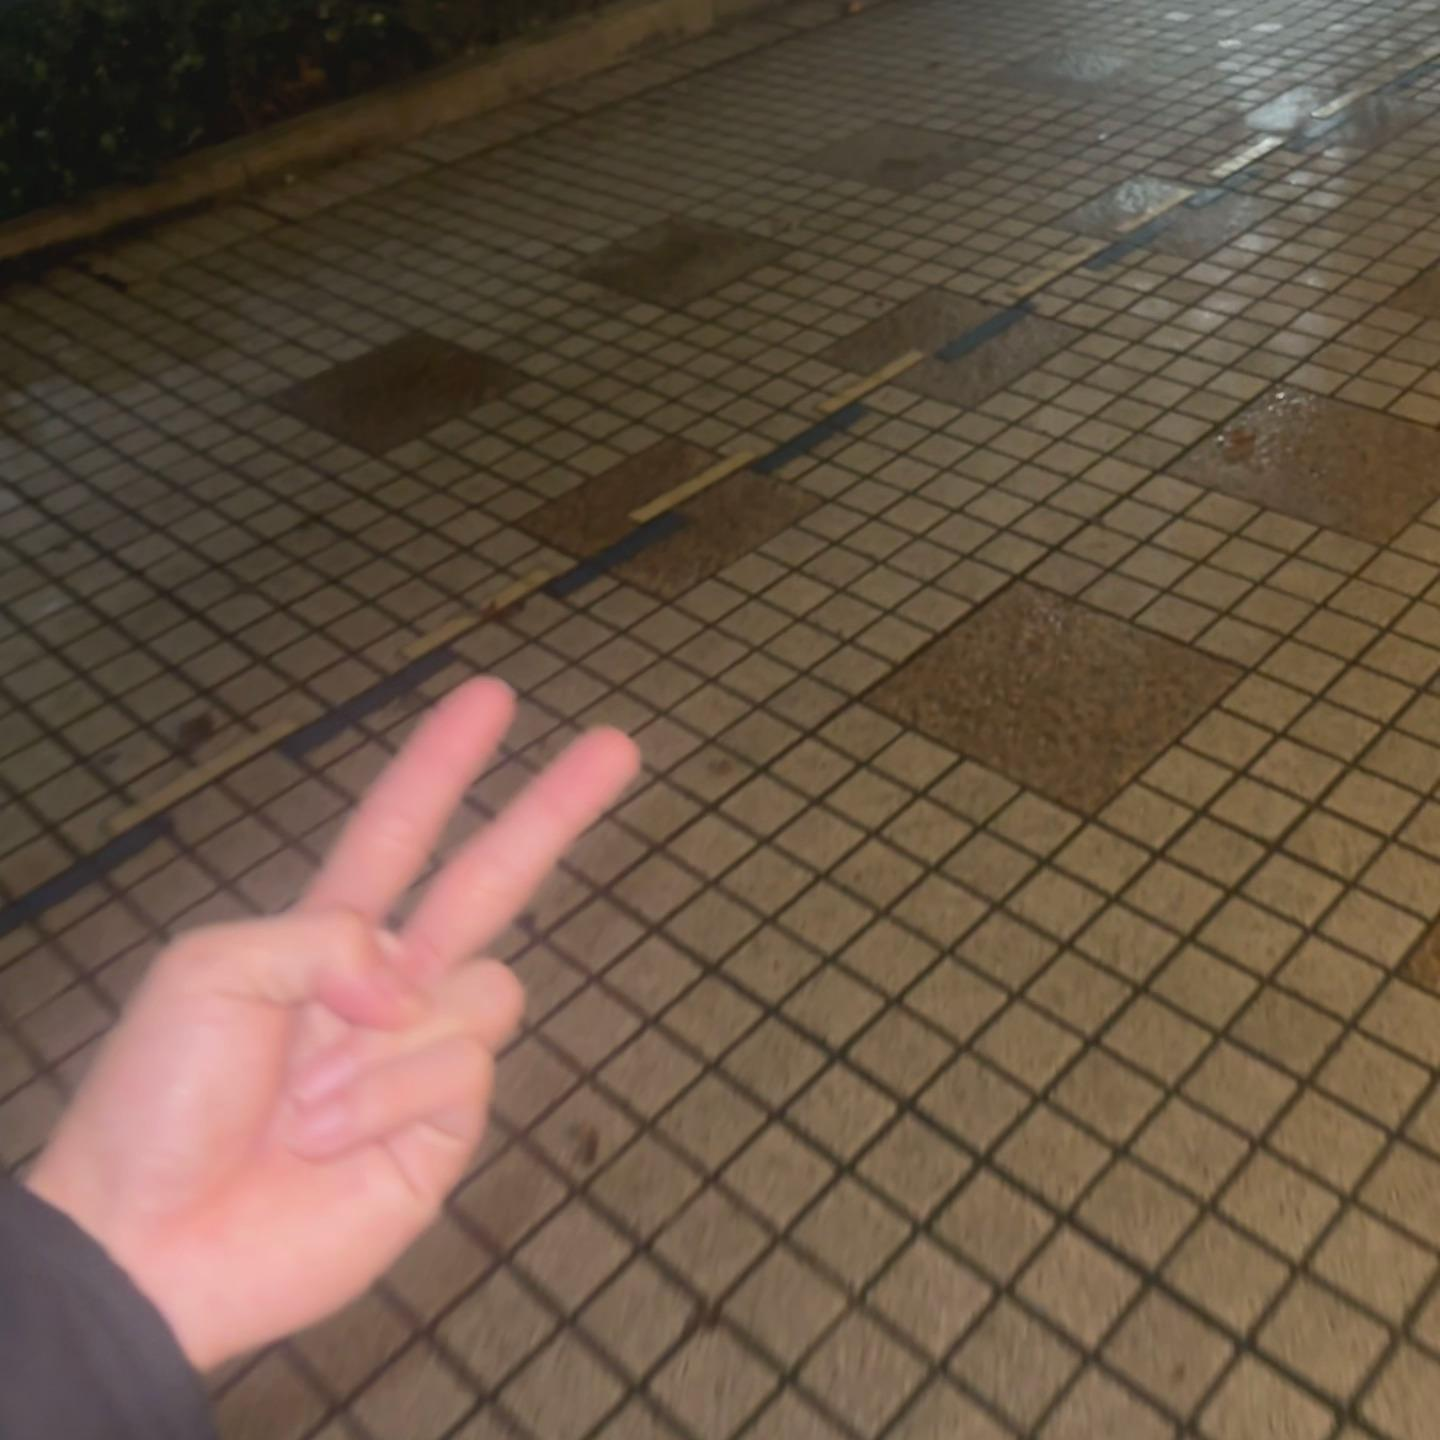without_gloves: (37, 473, 939, 1384)
